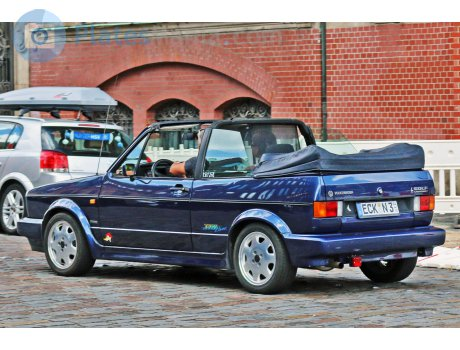License Plates: (359, 198, 397, 211)
